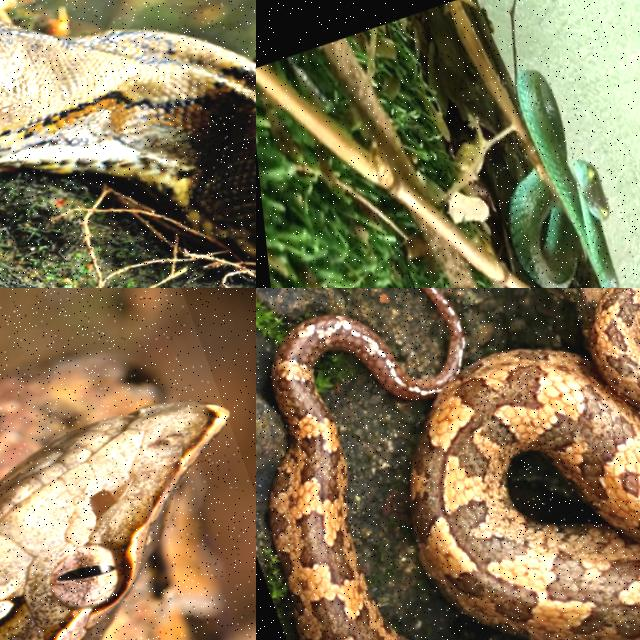Calloselasma rhodostoma: (0, 403, 226, 639)
Malayopython reticulatus: (0, 21, 255, 258)
Ovophis monticola: (269, 288, 639, 639)
Trimeresurus macrops: (508, 70, 618, 287)
